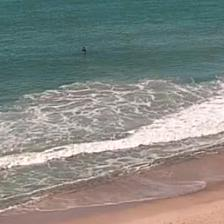surfer: (82, 47, 86, 52)
